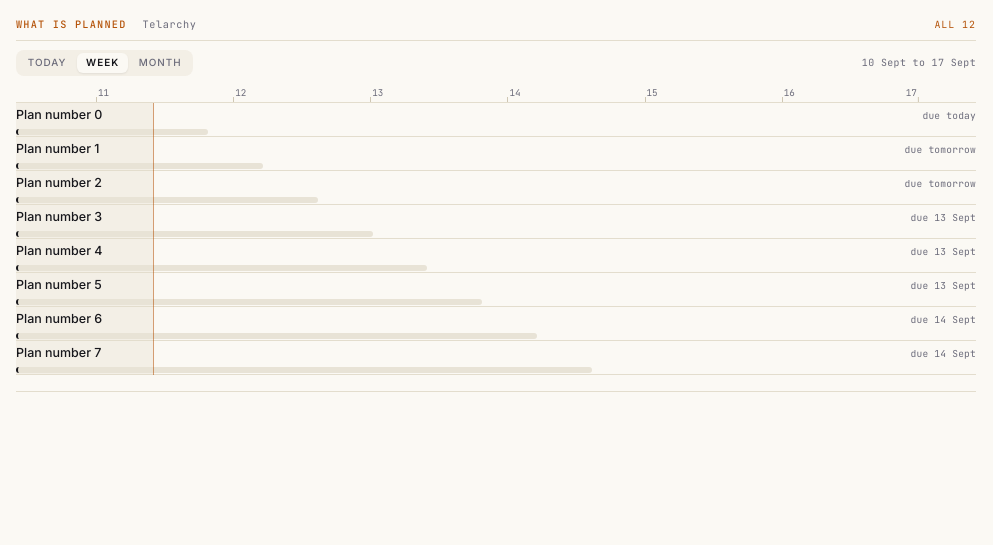
Test case: what is planned, in the data room › eight rows show; "All N" in the corner unfolds the rest and "Fewer" folds them
The image size is (993, 545).
Expected: the text "Plan number 0" is shown, 16,107 -> 102,122
Expected: the text "Plan number 8" is not shown
Click the button "All 12": [955, 24] box 934,17 -> 976,32
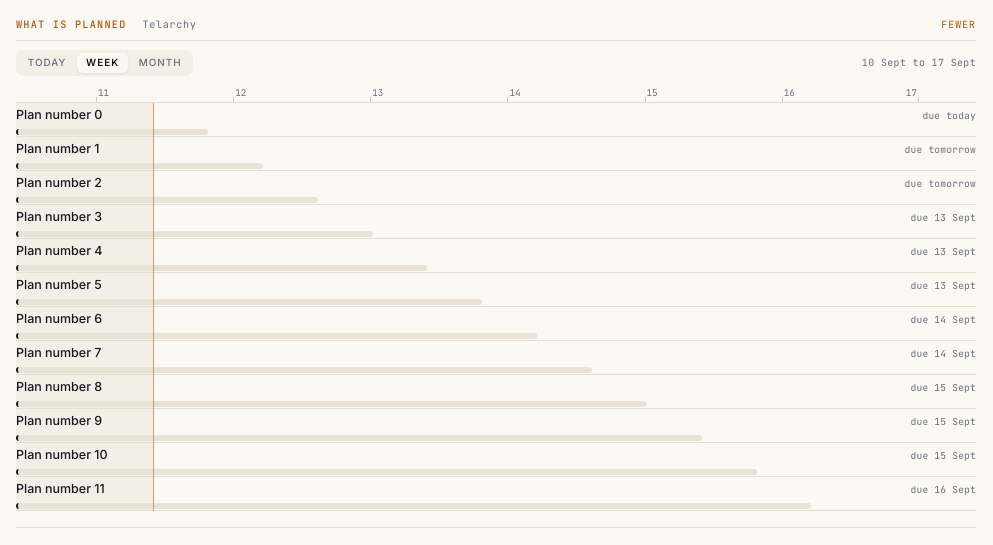
Now the number of list items with class "dr-tl-row" is 12
Now the text "Plan number 11" is shown, box 16,481 -> 105,496
Click the button "Fewer": [959, 24] box 941,17 -> 976,32
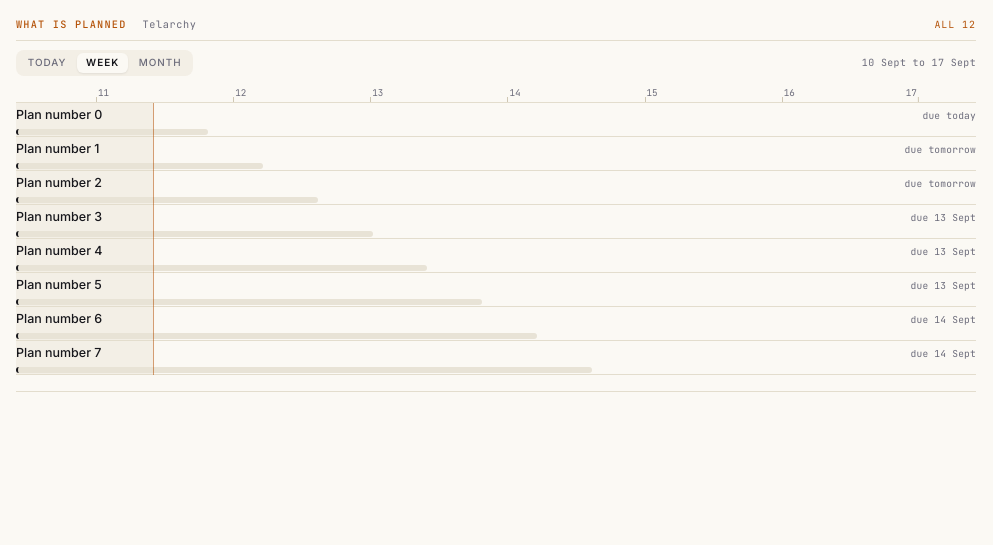
Now the number of list items with class "dr-tl-row" is 8
